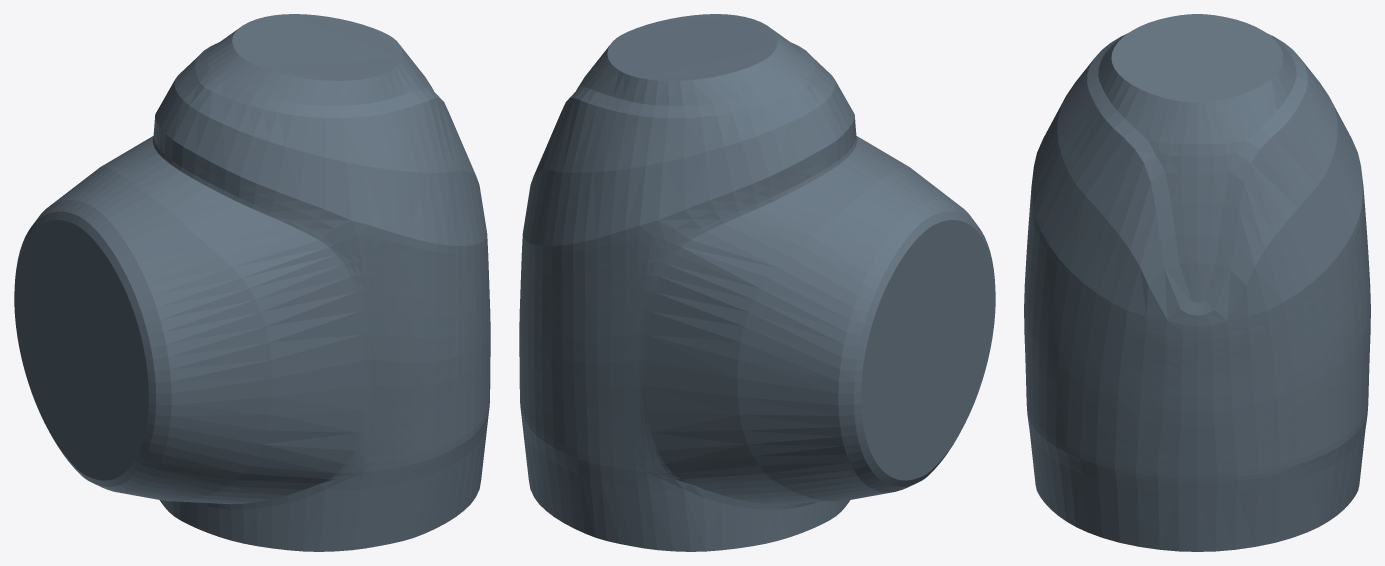
The picture shows the model from 3 angles, left to right: view 1: azimuth 30°, elevation 25°; view 2: azimuth 150°, elevation 25°; view 3: azimuth 270°, elevation 25°; orthographic projection.
Visible parts, largest first — view 1: MF0617_2_2; view 2: MF0617_2_2; view 3: MF0617_2_2.
Part boxes in pixels (<box>): MF0617_2_2: <box>14,14,490,551</box>; MF0617_2_2: <box>519,14,995,551</box>; MF0617_2_2: <box>1024,14,1370,551</box>.
Bounding box in the file's own units: 176 × 139 × 192.
